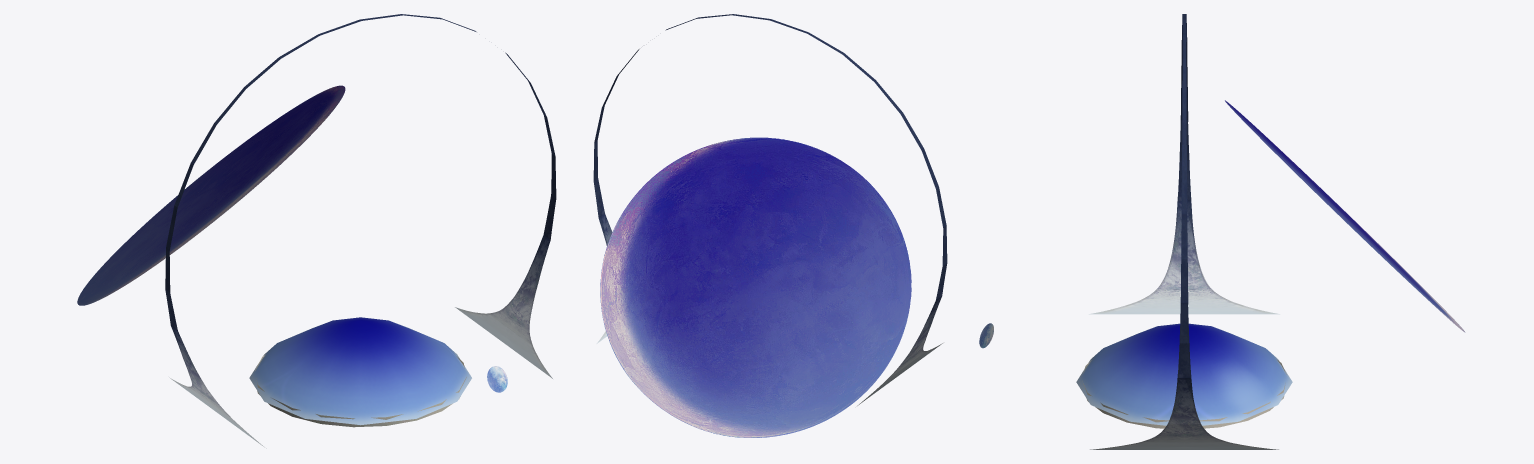
File: Clear Afternoon.obj
3 renders of one model, left to right at view 1: azimuth 30°, elevation 25°; view 2: azimuth 150°, elevation 25°; view 3: azimuth 270°, elevation 25°, orthographic. The views are drawn at different scales.
Parts seen in each view (by area): view 1: _00_sky, _14_threshold, _20_ring, _40_fog_band; view 2: _14_threshold, _20_ring; view 3: _00_sky, _20_ring, _14_threshold, _40_fog_band.
Boxes of the visible parts, left/top/right/bottom form: _00_sky: left=249, top=317, right=471, bottom=425; _14_threshold: left=77, top=85, right=345, bottom=305; _20_ring: left=165, top=14, right=556, bottom=448; _40_fog_band: left=255, top=354, right=466, bottom=427; _14_threshold: left=600, top=137, right=911, bottom=437; _20_ring: left=593, top=14, right=947, bottom=405; _00_sky: left=1076, top=323, right=1292, bottom=425; _20_ring: left=1089, top=14, right=1279, bottom=449; _14_threshold: left=1225, top=100, right=1465, bottom=332; _40_fog_band: left=1082, top=360, right=1286, bottom=428.
Size of the model in its own units: 1.27e+07 by 9950708 by 1.39e+07.
